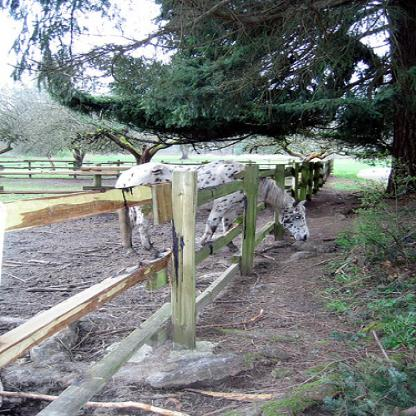horse: (113, 157, 311, 258)
